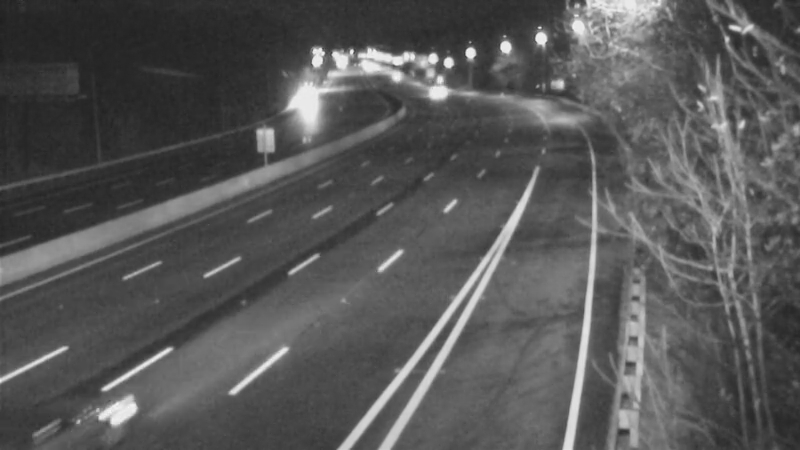vehicle: (409, 68, 459, 118)
